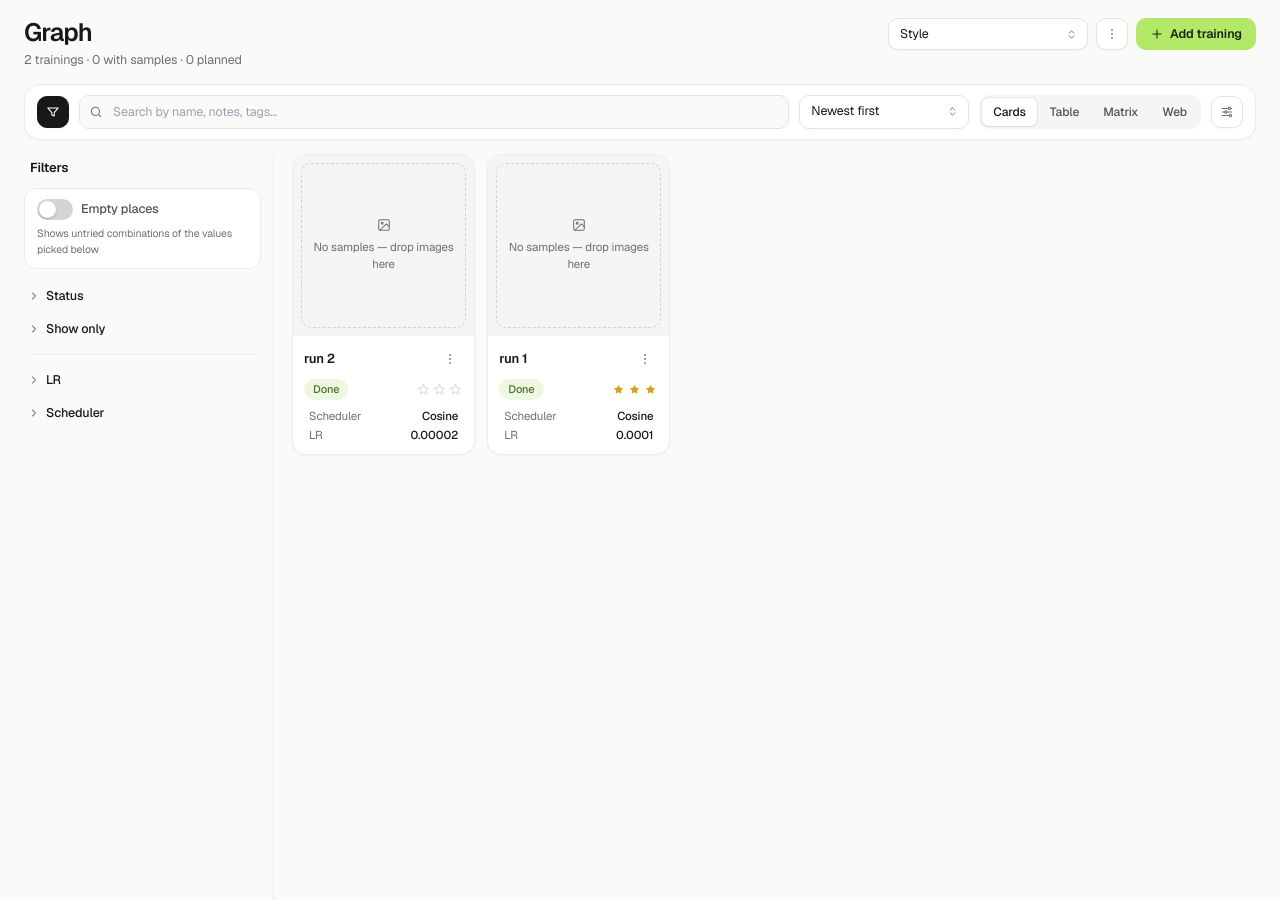
Test: GraphPage › renders the table, matrix and web views
The image size is (1280, 900).
Expected: the text "run 1" is shown, [499,350,527,367]
Click the tab "Table".
click(1064, 112)  # box [1039,98,1090,126]
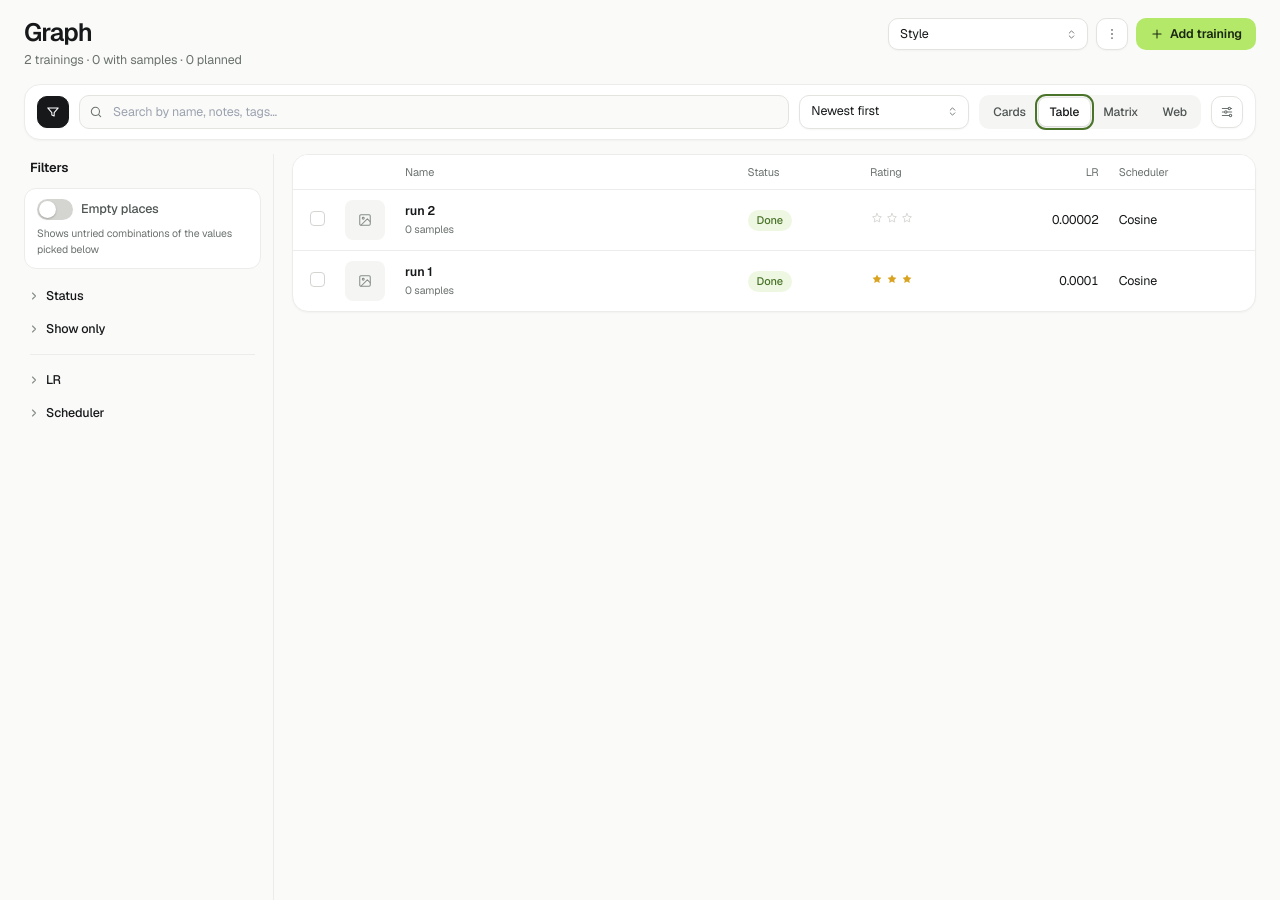
Result: the table is shown at [293,154,1255,311]
Click the tab "Matrix".
click(1121, 112)  # box [1092,98,1149,126]
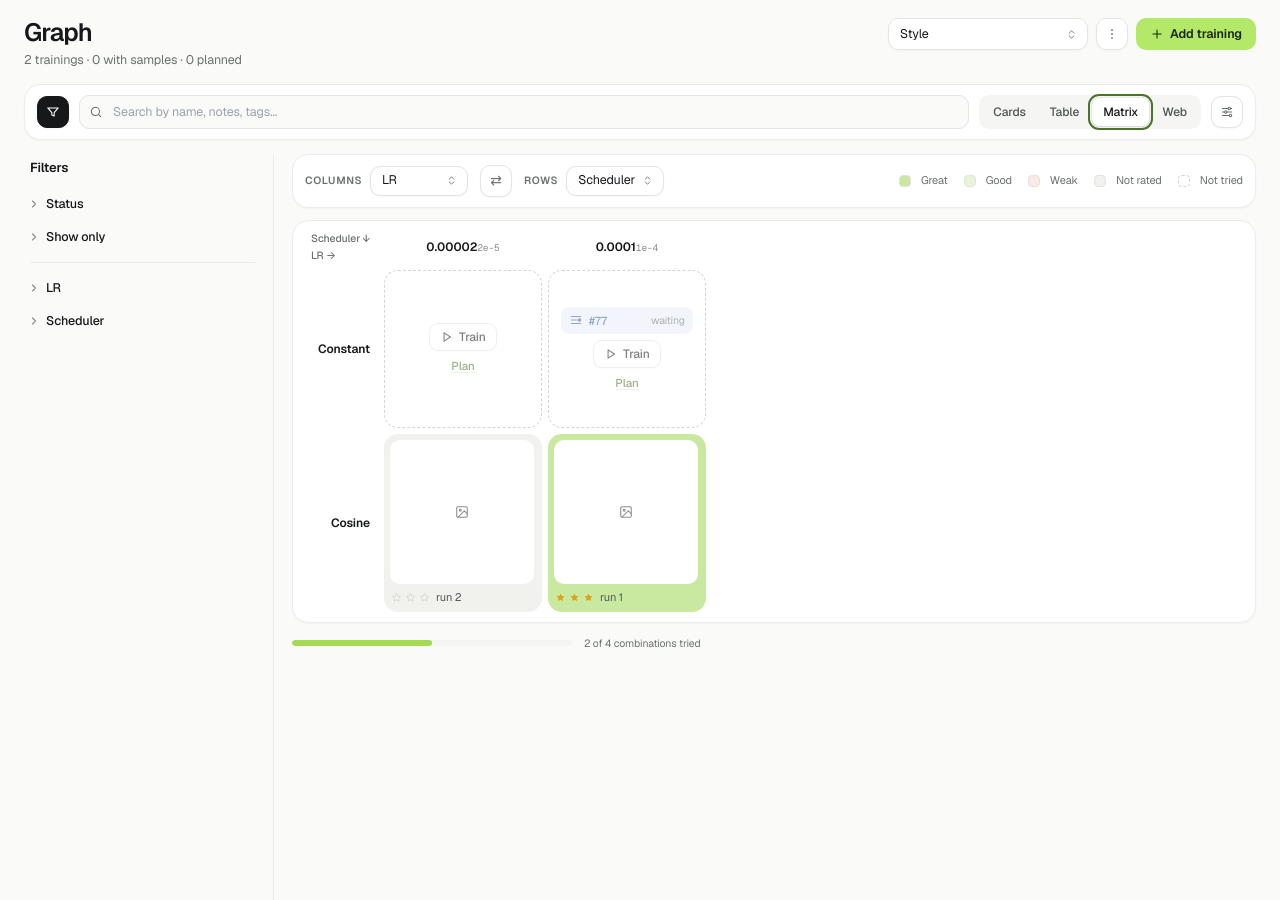
Click the tab "Web".
click(1175, 112)  # box [1151,98,1198,126]
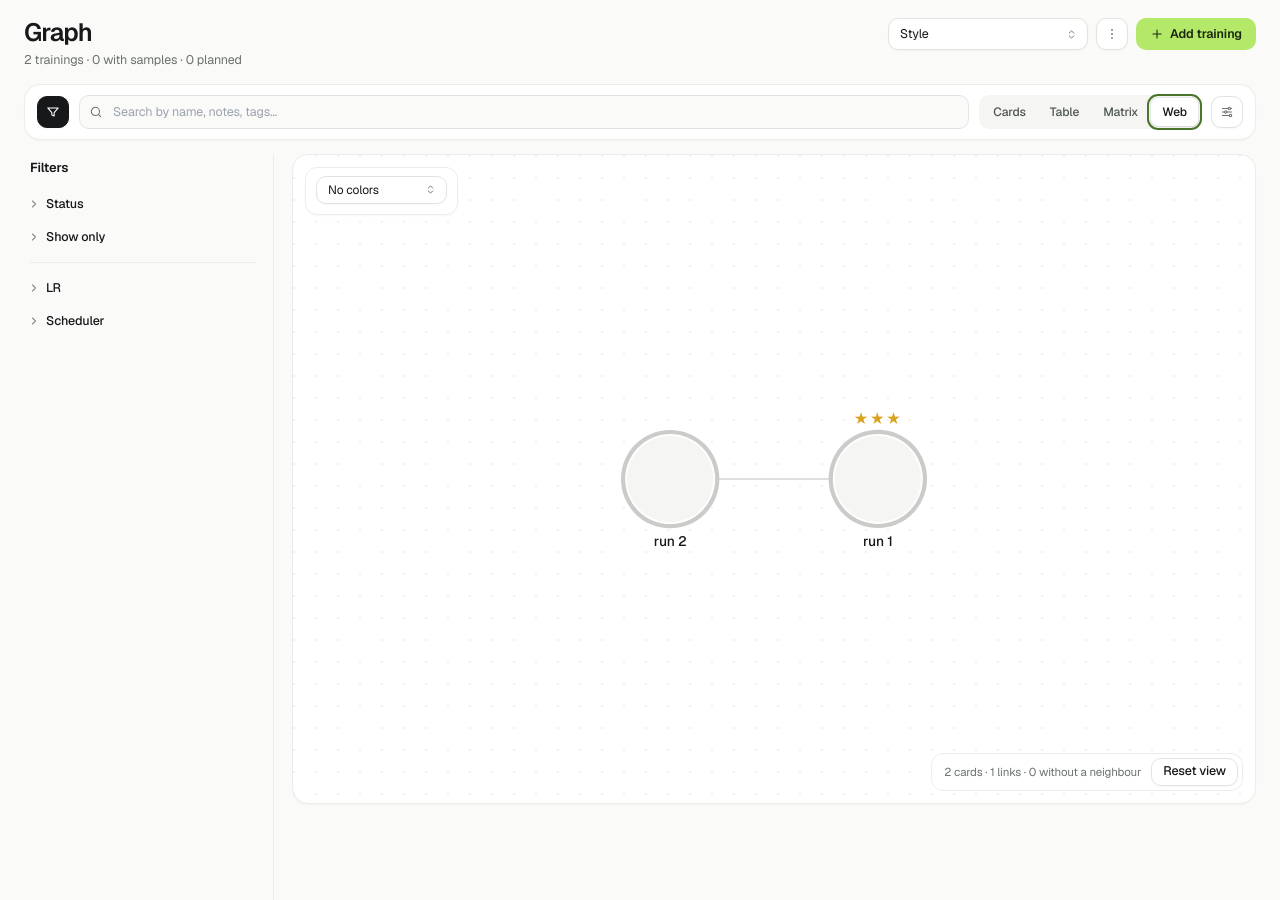
Result: the text "2 cards · 1 links · 0 without a neighbour" is shown at [944,763,1141,780]
